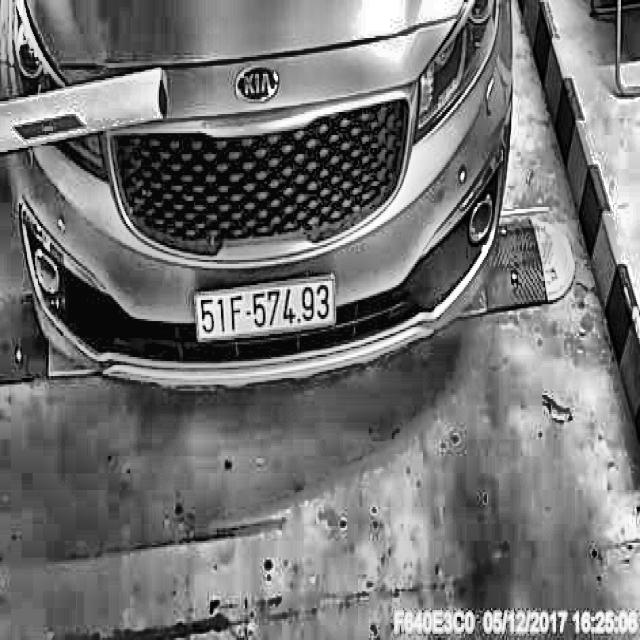plate: (190, 269, 338, 347)
